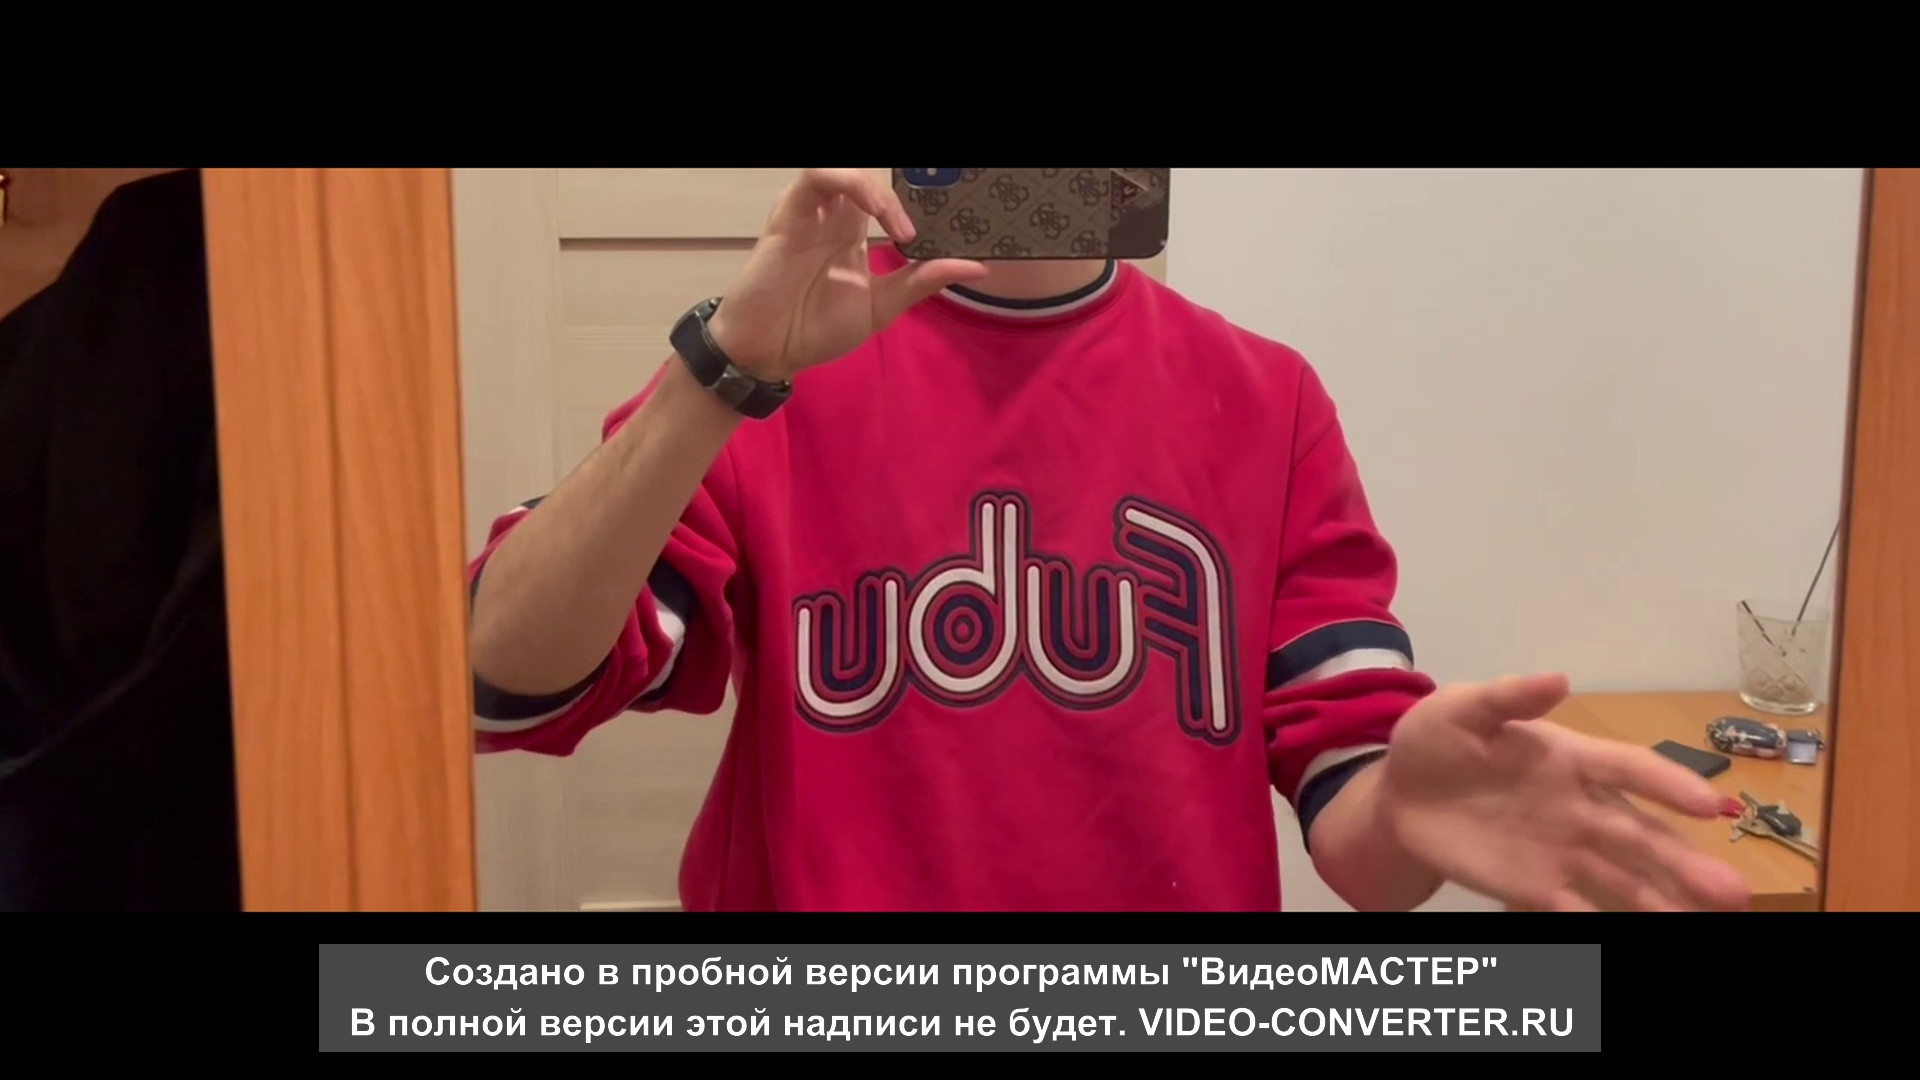Ладонь: (1389, 673, 1749, 906)
